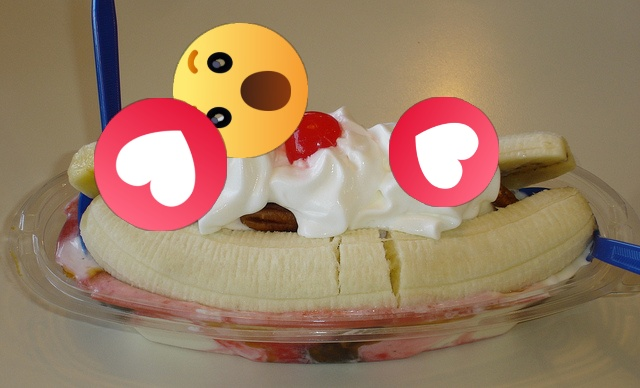love: (94, 98, 227, 231), (389, 97, 499, 207)
wow: (173, 23, 308, 158)
